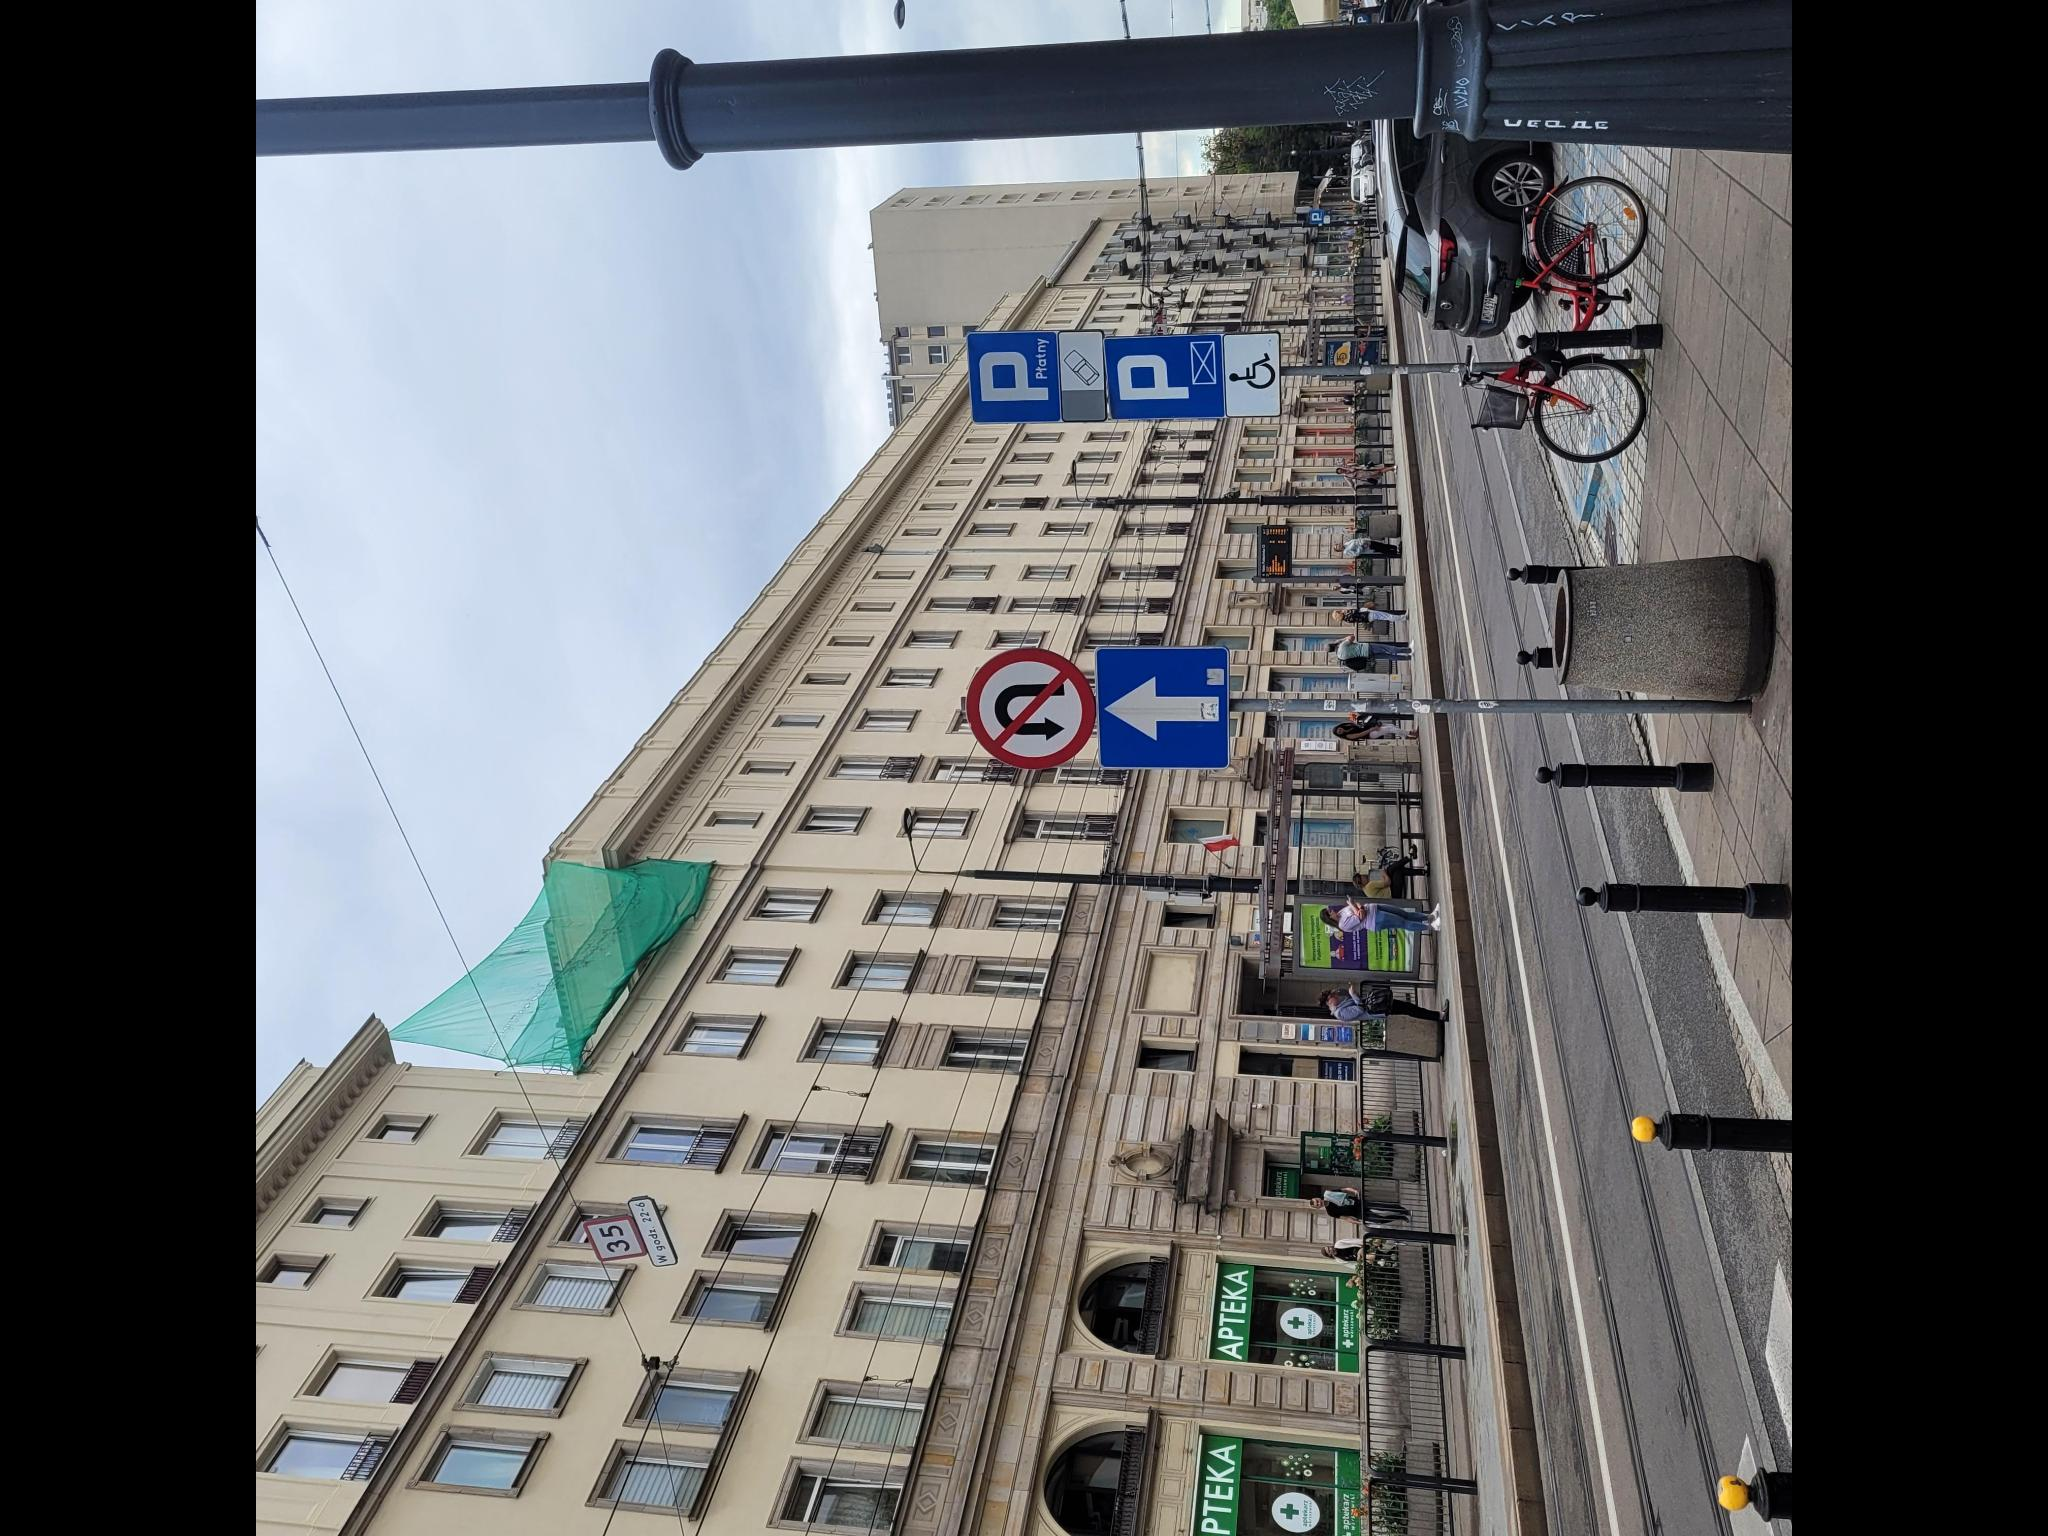information: (1097, 644, 1230, 773), (1103, 329, 1227, 424), (964, 321, 1063, 431)
other: (1221, 323, 1285, 421), (1056, 323, 1109, 424), (1308, 208, 1324, 224)
prohibitory: (963, 645, 1097, 771)
